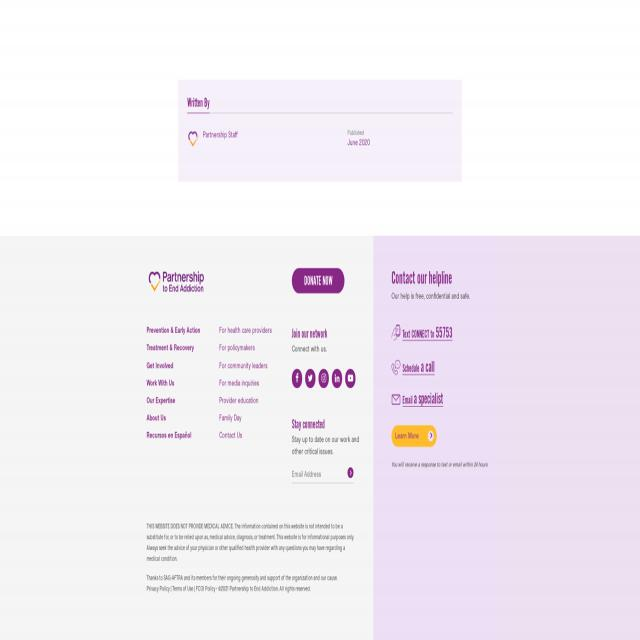button: (146, 268, 206, 295), (292, 268, 344, 294), (391, 425, 437, 447), (305, 368, 316, 388), (318, 368, 329, 388), (345, 368, 356, 388), (292, 368, 302, 388), (332, 368, 342, 388), (392, 324, 401, 340), (392, 360, 401, 375), (346, 466, 354, 479), (392, 394, 401, 404)
field: (292, 466, 354, 484)
